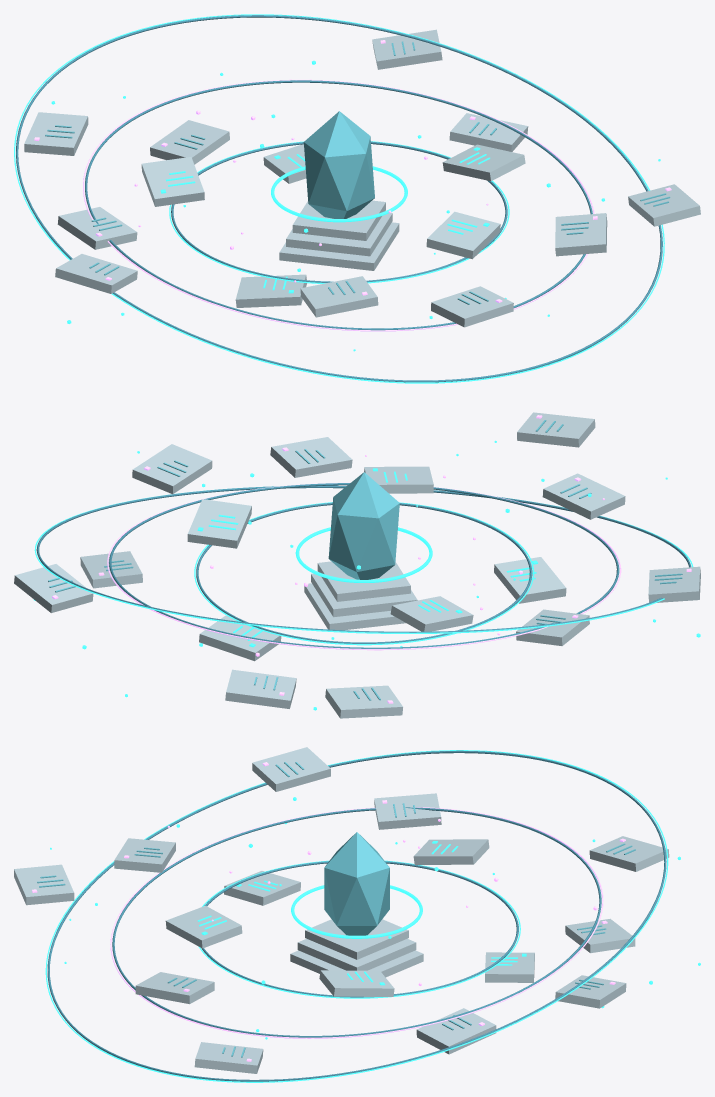
Rendered from evidence-orbit.glb.
3 views of the same model, one above another, from view 1: azimuth 30°, elevation 25°; view 2: azimuth 150°, elevation 25°; view 3: azimuth 270°, elevation 25° (orthographic). The views are drawn at different scales.
Parts seen in each view (by area): view 1: Project_core, Orbit_2, Orbit_1, Lightpath_2, Source tile.006, Source tile.012, Source tile.005, Source tile.010, Source tile.004, Source tile.011, Source tile.007, Source tile.013 (+14 smaller); view 2: Project_core, Orbit_2, Orbit_1, Source tile.014, Source tile, Source tile.013, Source tile.010, Source tile.002, Source tile.004, Source tile.009, Source tile.005, Source tile.011 (+14 smaller); view 3: Project_core, Orbit_2, Orbit_1, Lightpath_2, Source tile.008, Project platform.002, Source tile.007, Source tile.012, Lightpath_1, Source tile.001, Source tile.011, Project platform.001 (+14 smaller).
Boxes of the visible parts, <box> form: Project_core: <box>303,111,374,218</box>; Orbit_2: <box>16,15,662,382</box>; Orbit_1: <box>85,80,592,330</box>; Lightpath_2: <box>14,14,664,383</box>; Source tile.006: <box>141,157,204,206</box>; Source tile.012: <box>426,211,500,259</box>; Source tile.005: <box>24,112,88,155</box>; Source tile.010: <box>300,276,378,317</box>; Source tile.004: <box>150,120,229,164</box>; Source tile.011: <box>431,286,513,327</box>; Source tile.007: <box>57,207,137,249</box>; Source tile.013: <box>555,213,607,256</box>; Project_core: <box>328,472,399,579</box>; Orbit_2: <box>36,485,691,632</box>; Orbit_1: <box>109,483,619,648</box>; Source tile.014: <box>132,444,212,494</box>; Source tile: <box>187,499,251,548</box>; Source tile.013: <box>270,437,352,477</box>; Source tile.010: <box>542,473,625,519</box>; Source tile.002: <box>14,564,93,612</box>; Source tile.004: <box>225,669,296,708</box>; Source tile.009: <box>494,557,566,603</box>; Source tile.005: <box>325,685,402,718</box>; Source tile.011: <box>517,412,595,447</box>; Project_core: <box>324,832,389,935</box>; Orbit_2: <box>47,750,666,1081</box>; Orbit_1: <box>112,807,601,1037</box>; Lightpath_2: <box>45,750,668,1082</box>; Source tile.008: <box>252,747,330,791</box>; Project platform.002: <box>305,919,408,959</box>; Source tile.007: <box>374,793,441,829</box>; Source tile.012: <box>165,905,242,948</box>; Lightpath_1: <box>110,807,603,1038</box>; Source tile.001: <box>416,1008,496,1054</box>; Source tile.011: <box>14,864,74,905</box>; Project platform.001: <box>297,938,416,970</box>.
Size of the model in its own units: 9.46 by 2.31 by 9.83.
